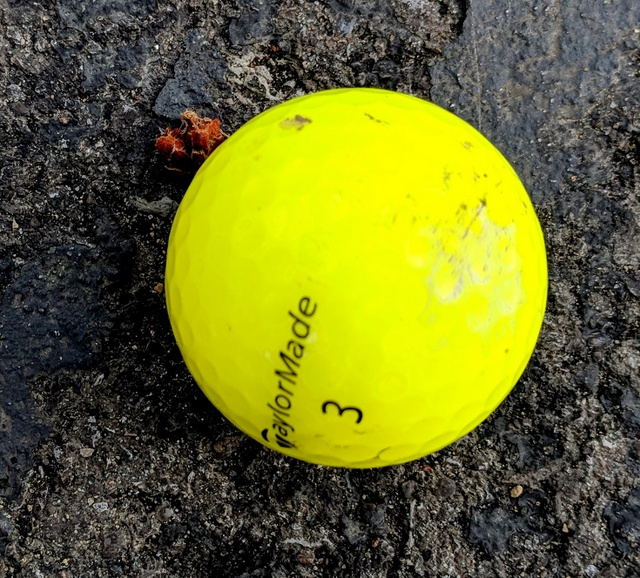ball: (166, 88, 551, 472)
